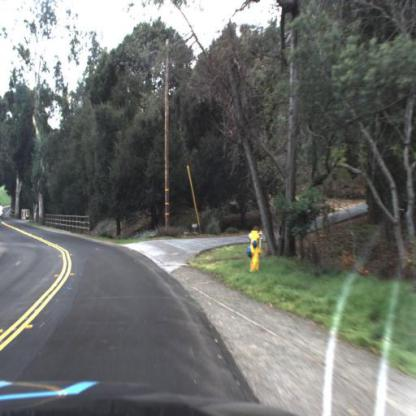biker: (1, 202, 5, 233)
